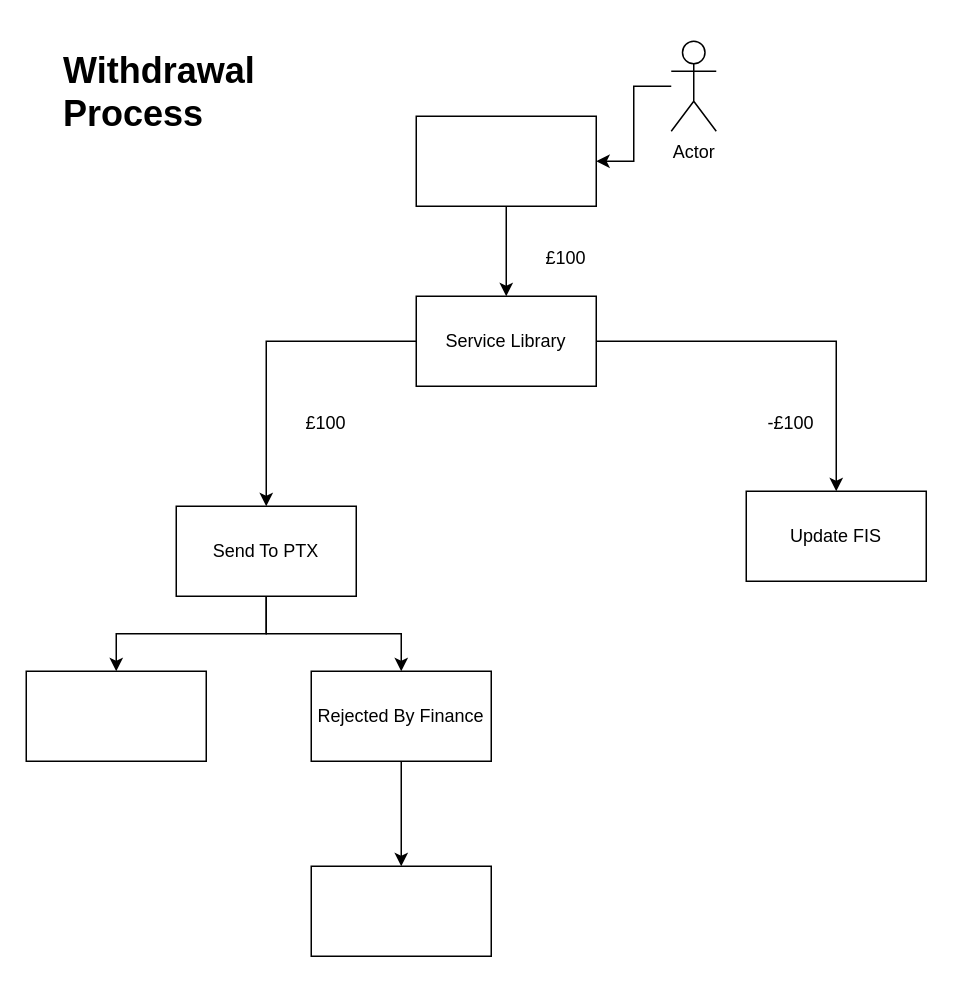
The diagram is 953 pixels wide and 983 high, and some of its shapes have lost their labels. Each missing label, with the box of its shape:
Approved By Finance: (25, 670, 206, 761)
Front End: (415, 115, 596, 206)
Manual process to update the card: (310, 865, 491, 956)
